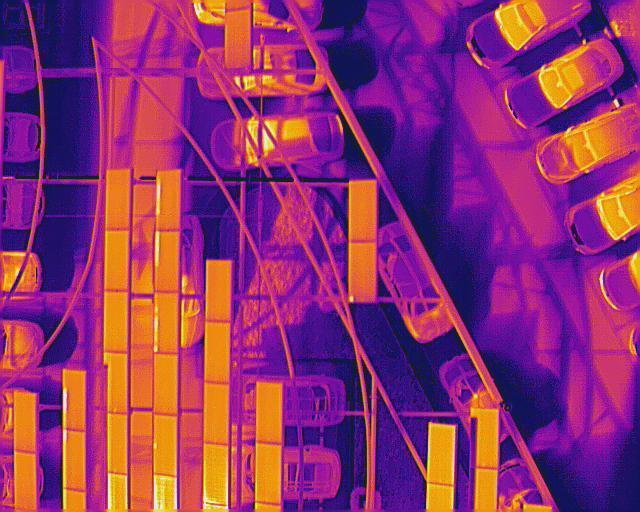Cell: (348, 242, 376, 303), (152, 415, 178, 478)
No-Anomaly: (206, 259, 233, 321), (203, 321, 230, 382), (255, 382, 282, 443), (429, 425, 456, 486), (350, 180, 376, 242), (105, 168, 131, 229), (203, 383, 229, 444), (224, 8, 250, 67), (154, 352, 179, 413), (256, 443, 281, 504), (104, 230, 129, 290), (104, 291, 128, 352), (476, 409, 499, 469), (106, 354, 128, 413), (14, 394, 36, 453), (14, 450, 36, 509), (108, 415, 129, 474)
Unclassified: (155, 170, 182, 232), (203, 442, 228, 505), (155, 230, 179, 292), (62, 370, 86, 430), (154, 293, 178, 352), (63, 431, 86, 490)
